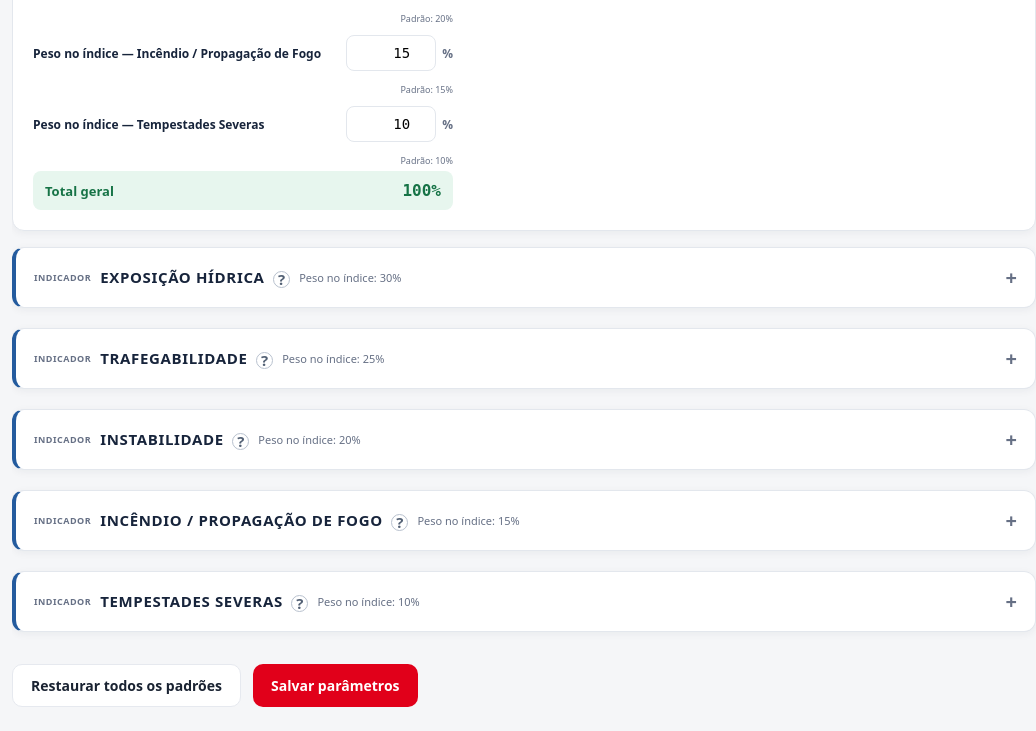
tela Riscos e Score › exibe os multiplicadores de secura do Incêndio
(page scrolled)
Click the heading "Incêndio / Propagação de Fogo": point(254, 521) x1=100 y1=510 x2=408 y2=531
(page scrolled)
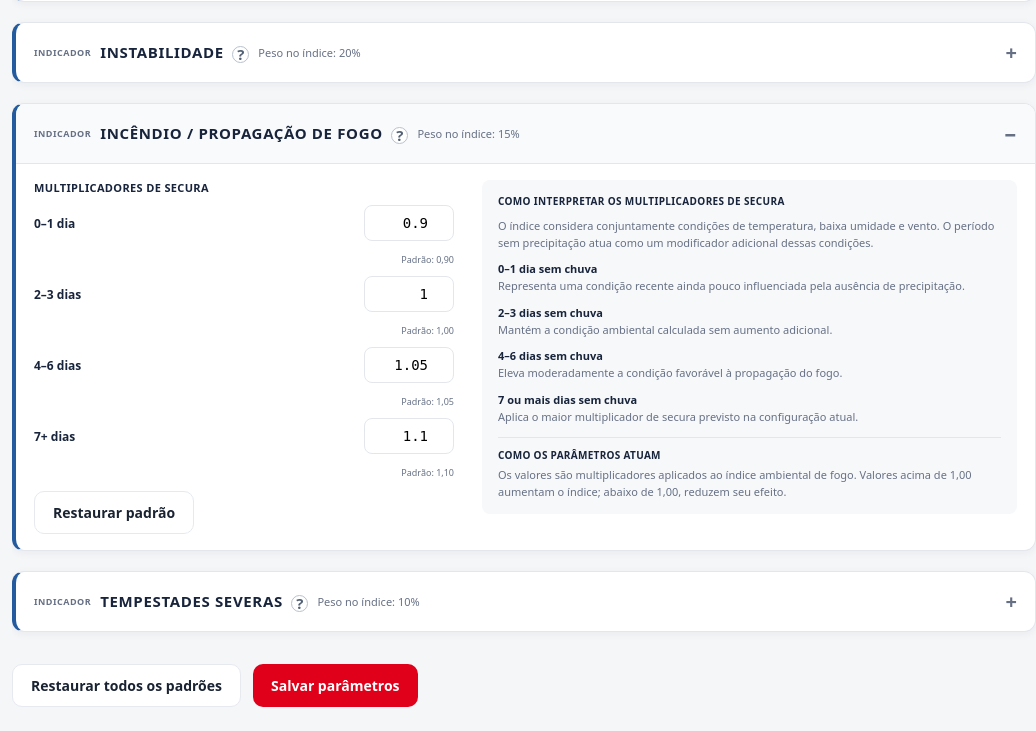
Check: the number field labelled "0–1 dia" holds "0.9", box x1=364 y1=205 x2=454 y2=241
Check: the number field labelled "2–3 dias" holds "1", box x1=364 y1=276 x2=454 y2=312
Check: the number field labelled "4–6 dias" holds "1.05", box x1=364 y1=347 x2=454 y2=383
